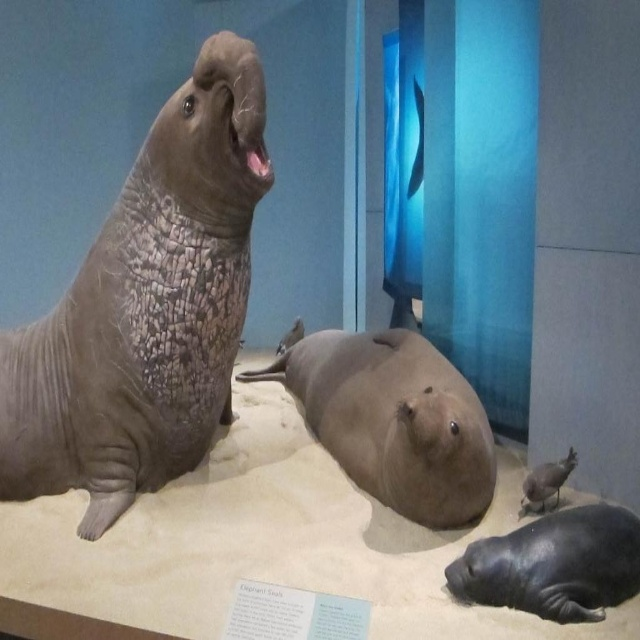Harbor seal: (0, 29, 275, 542), (237, 329, 499, 532), (446, 504, 640, 626)
